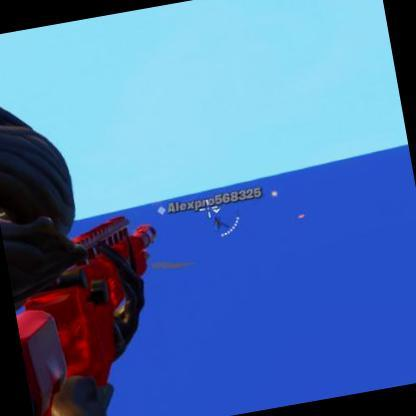person: (214, 210, 224, 228)
